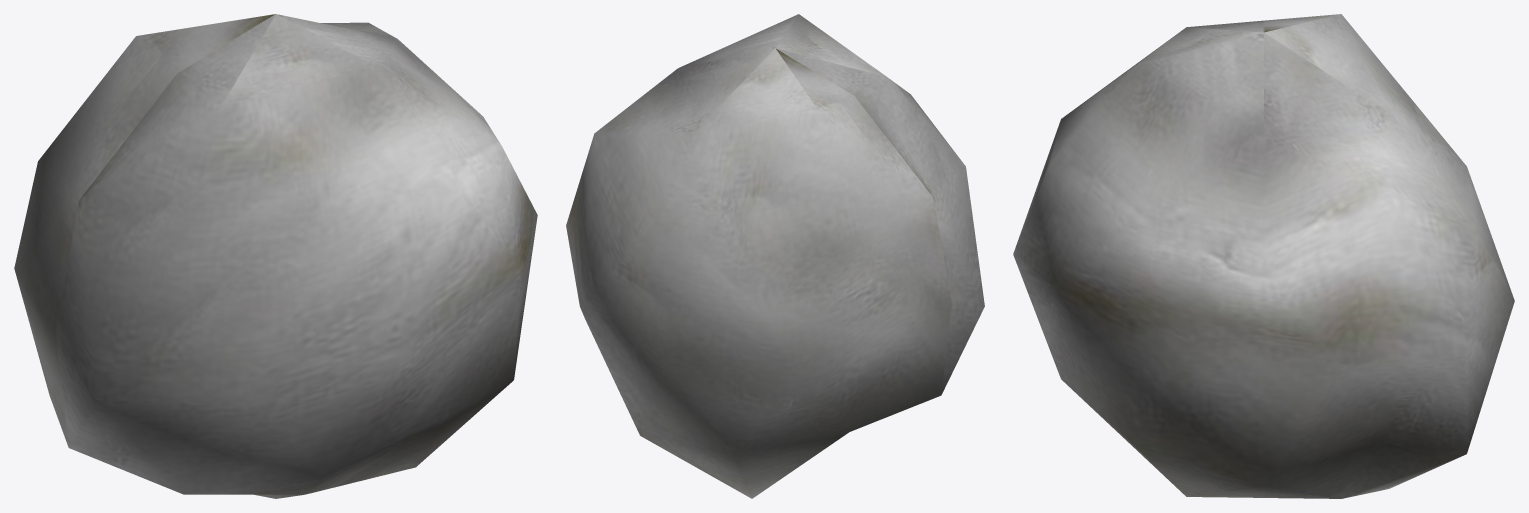
Rendered from chemical_ cotton ball.FBX.
The picture shows the model from 3 angles, left to right: view 1: azimuth 30°, elevation 25°; view 2: azimuth 150°, elevation 25°; view 3: azimuth 270°, elevation 25°; orthographic projection. The views are drawn at different scales.
Visible parts, largest first — view 1: chemical_ cotton ball; view 2: chemical_ cotton ball; view 3: chemical_ cotton ball.
Boxes of the visible parts, bbox=[...] form: chemical_ cotton ball: bbox=[14, 14, 537, 498]; chemical_ cotton ball: bbox=[566, 14, 984, 498]; chemical_ cotton ball: bbox=[1013, 14, 1514, 498].
Bounding box in the file's own units: 2.22 × 2.44 × 2.34.
1 material, 1 textured.
